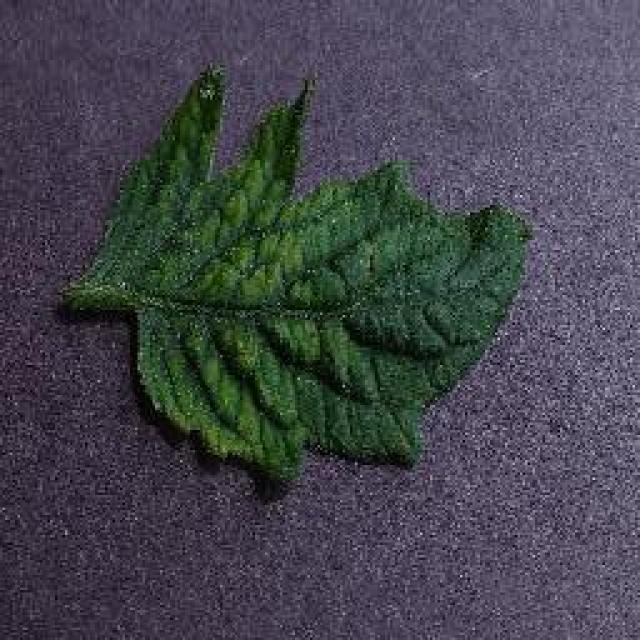Tomato spider mites leaf: (95, 70, 533, 492)
